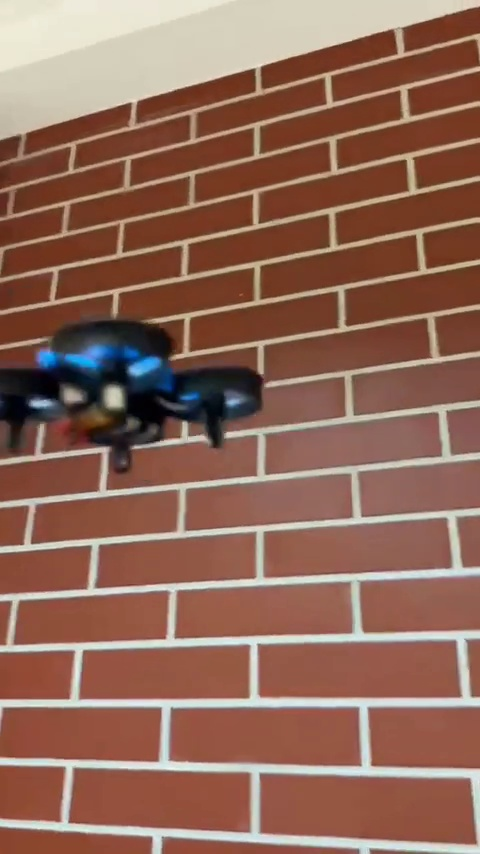drone: (3, 318, 268, 482)
